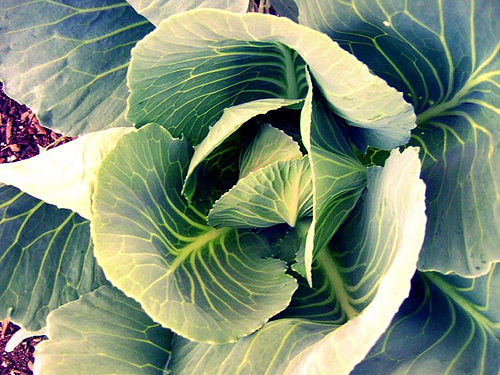cabbage: (0, 0, 498, 374)
